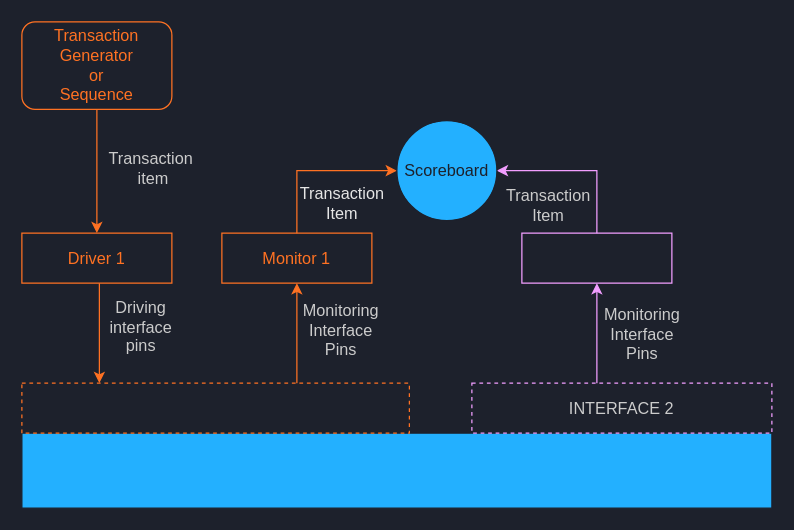
Some shapes in this 794 by 530 pixel diagram are drawn without their labels. Here are the shapes that lost their labels. From the top down, the box of each, then its label:
(521, 232, 672, 283): ALU OUT MONITOR
(21, 382, 409, 433): INTERFACE 1
(21, 432, 772, 508): DUT
